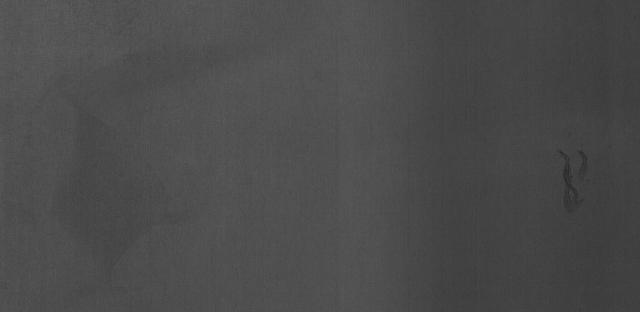water_spot: (552, 137, 601, 223)
